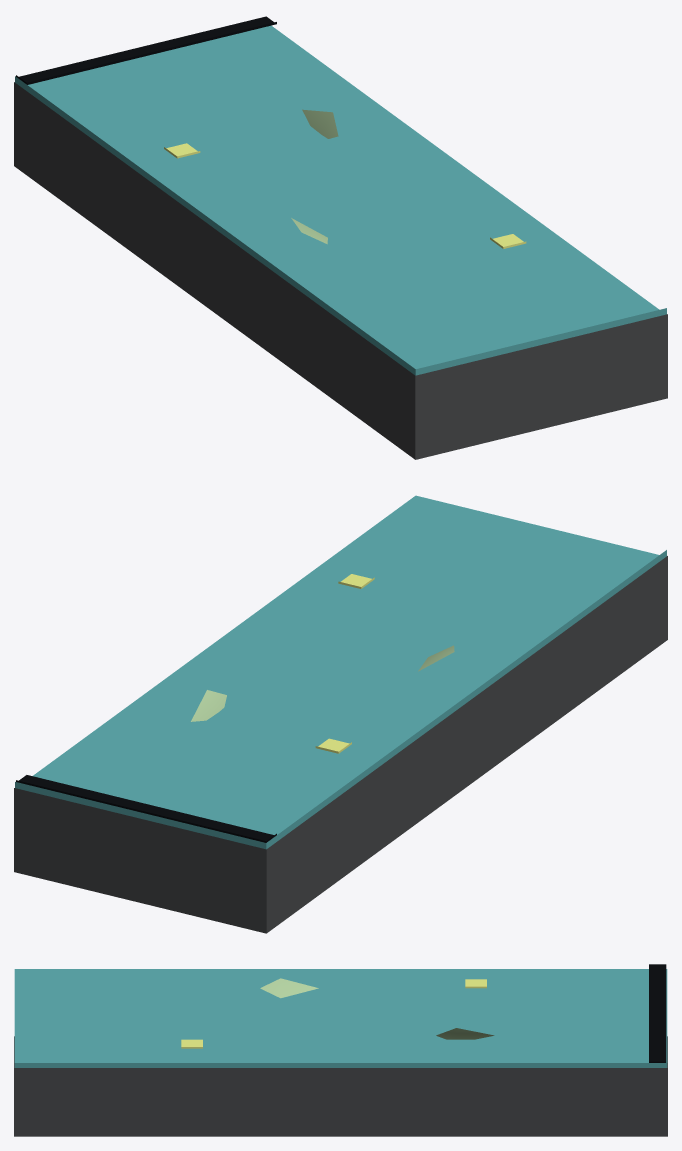
The model's file is tt_climb_mat_300_088x24.glb.
The picture shows the model from 3 angles, top to bottom: view 1: azimuth 30°, elevation 25°; view 2: azimuth 150°, elevation 25°; view 3: azimuth 270°, elevation 25°; orthographic projection. The views are drawn at different scales.
Visible parts, largest first — view 1: Mat_Cover, Mat_Core, Velcro_Seam_Flap, Leaf_Print, Ball_Dots; view 2: Mat_Cover, Mat_Core, Velcro_Seam_Flap, Leaf_Print, Ball_Dots; view 3: Mat_Cover, Mat_Core, Velcro_Seam_Flap, Leaf_Print, Ball_Dots.
Boxes of the visible parts, left/top/right/bottom form: Mat_Cover: left=15, top=25, right=666, bottom=375; Mat_Core: left=14, top=82, right=667, bottom=459; Velcro_Seam_Flap: left=16, top=16, right=276, bottom=84; Leaf_Print: left=291, top=109, right=338, bottom=244; Ball_Dots: left=164, top=143, right=526, bottom=248; Mat_Cover: left=15, top=495, right=666, bottom=849; Mat_Core: left=14, top=556, right=667, bottom=933; Velcro_Seam_Flap: left=16, top=775, right=276, bottom=842; Leaf_Print: left=191, top=645, right=454, bottom=721; Ball_Dots: left=315, top=574, right=374, bottom=753; Mat_Cover: left=14, top=969, right=667, bottom=1067; Mat_Core: left=14, top=1036, right=667, bottom=1136; Velcro_Seam_Flap: left=649, top=964, right=666, bottom=1062; Leaf_Print: left=260, top=978, right=494, bottom=1039; Ball_Dots: left=181, top=979, right=486, bottom=1048.
Size of what is drawn, in the model's own units: 0.878 by 0.3412 by 2.42.
Materials: 5 (1 with a texture image).
